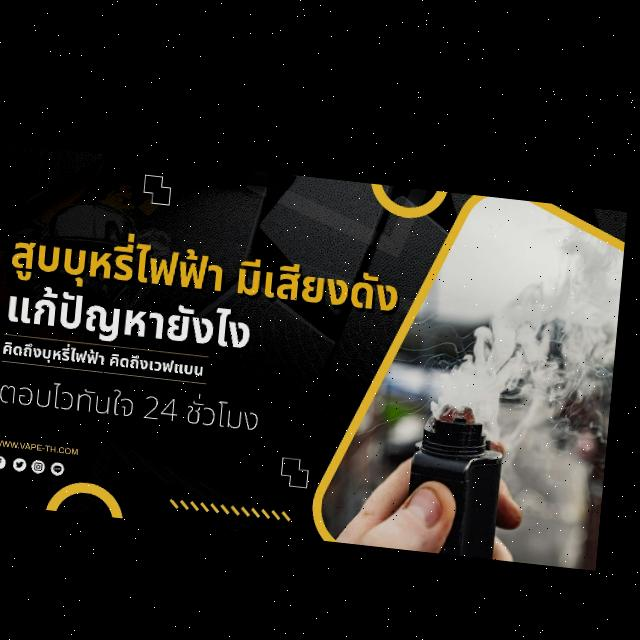vape: (414, 388, 513, 546)
